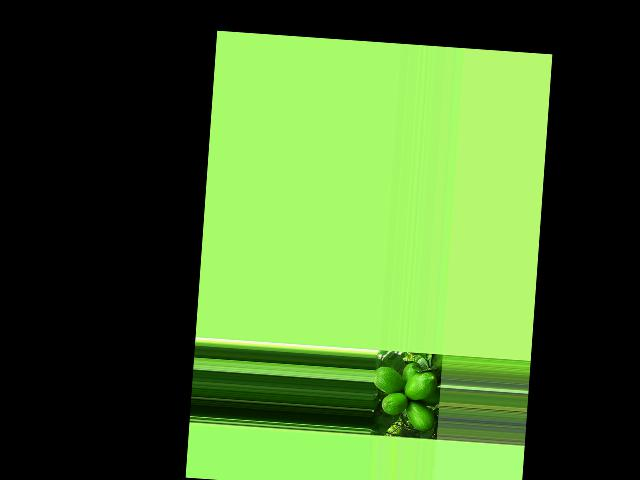lemon: (403, 398, 435, 433)
